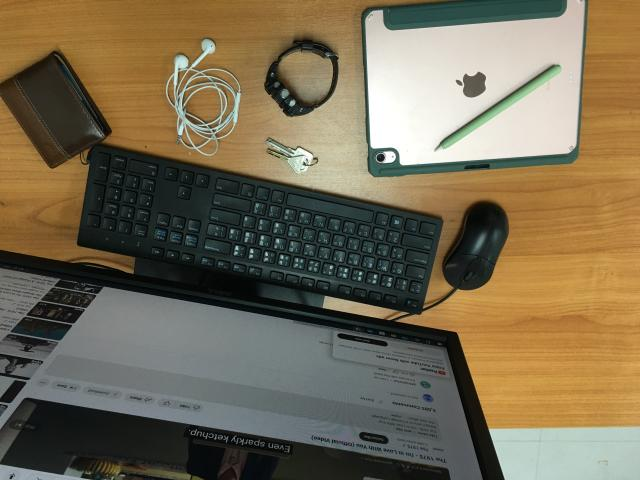Keys: (263, 136, 321, 175)
Mouse: (441, 202, 510, 291)
Wallet: (0, 49, 113, 170)
Watch: (263, 37, 339, 118)
wire: (164, 40, 240, 155)
